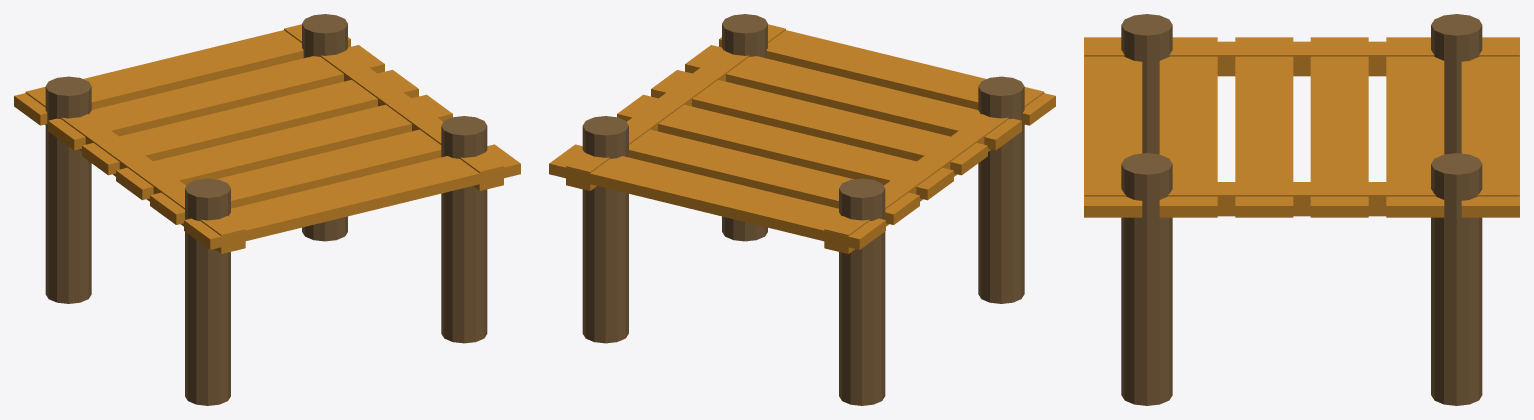
File: Steg.fbx
3 renders of one model, left to right at view 1: azimuth 30°, elevation 25°; view 2: azimuth 150°, elevation 25°; view 3: azimuth 270°, elevation 25°, orthographic. The views are drawn at different scales.
Parts seen in each view (by area): view 1: Cube.005; view 2: Cube.005; view 3: Cube.005.
Part boxes in pixels (left/top/right/bottom): Cube.005: left=14, top=14, right=520, bottom=405; Cube.005: left=549, top=14, right=1055, bottom=405; Cube.005: left=1084, top=14, right=1519, bottom=405.
Bounding box in the file's own units: 1373 × 878 × 1500.
